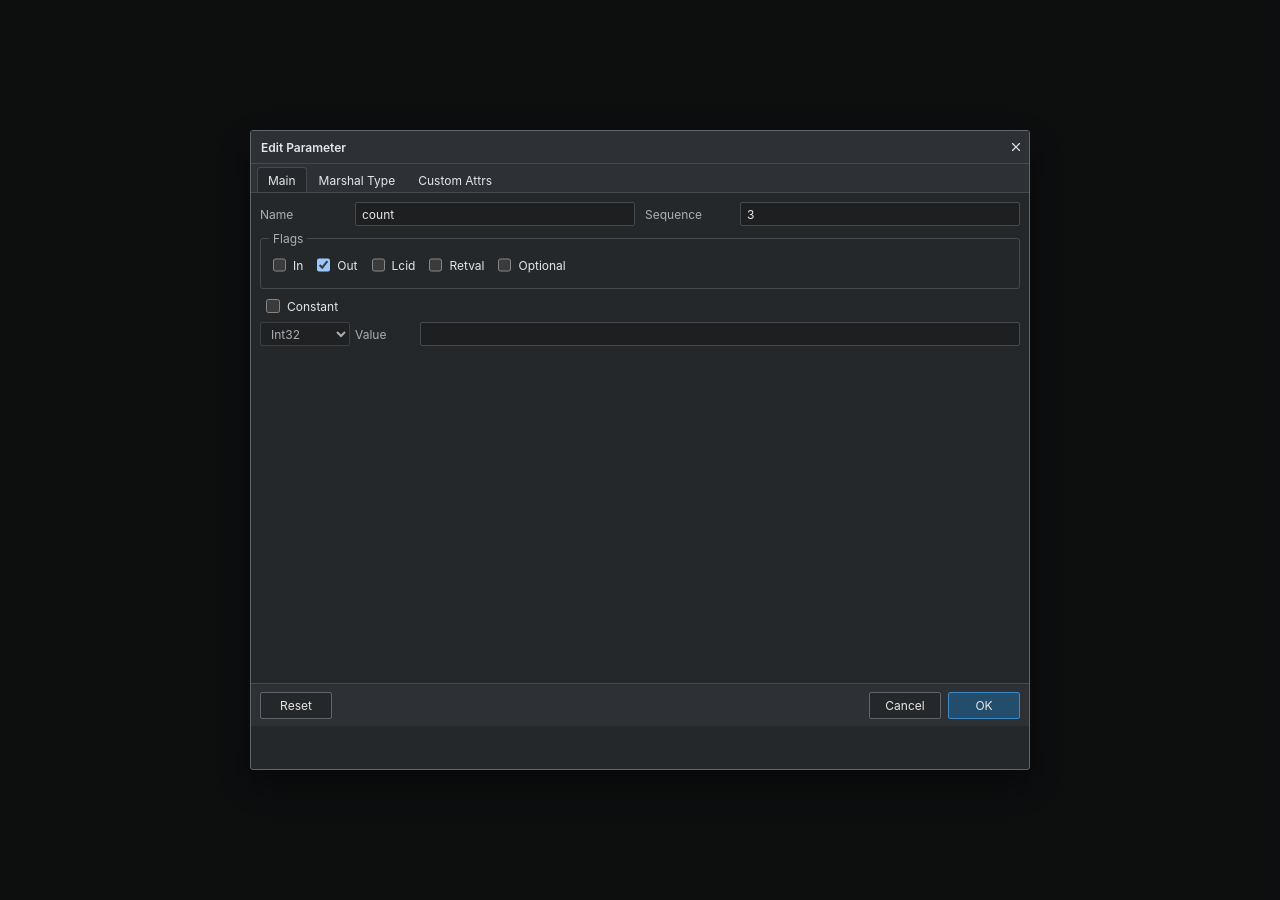
Test: ParamDefDialog › puts every value back the way it opened, whichever page it is on
Replace the text in the field named "Name" with "other". click: point(495, 214)
box: [355, 202, 635, 226]
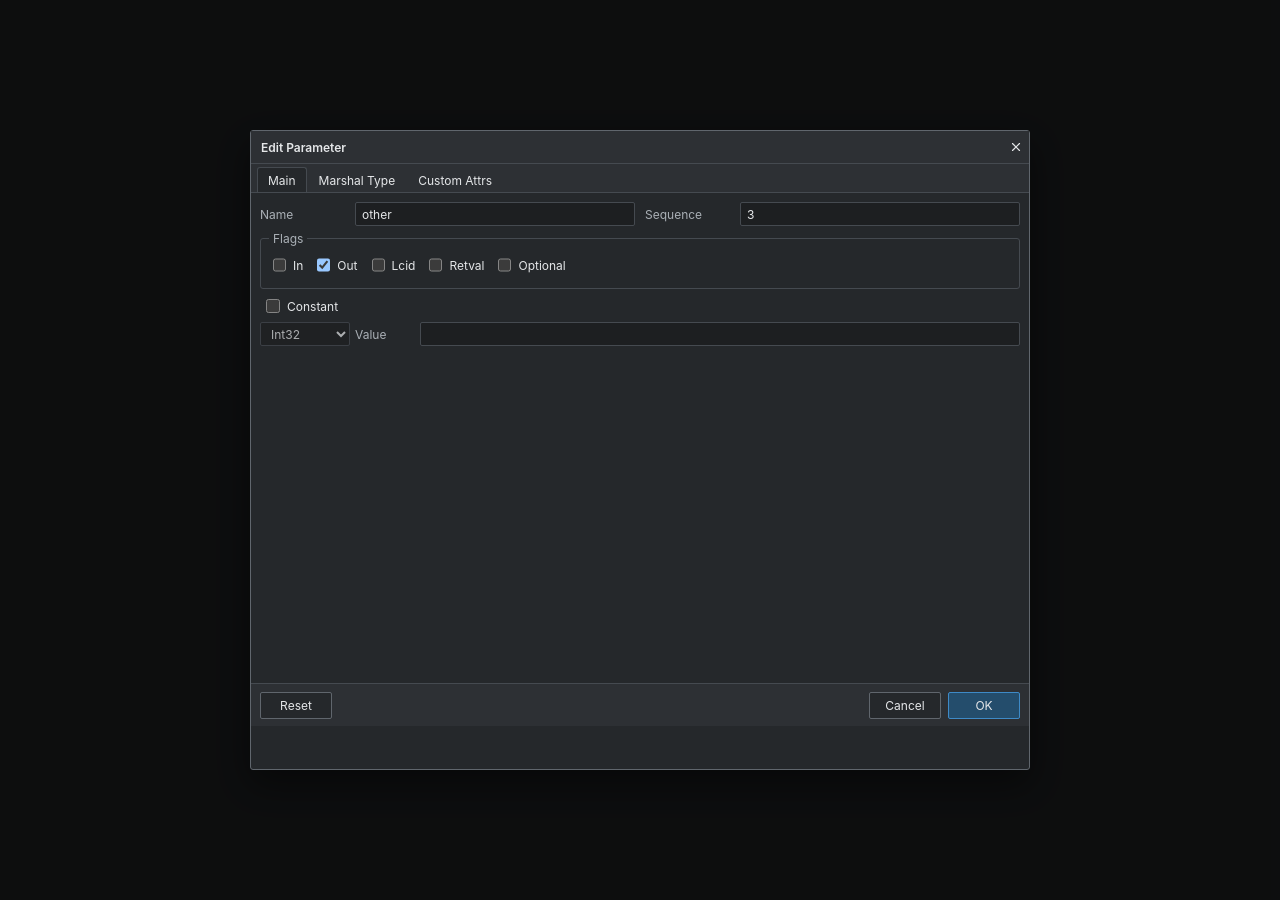
Click the checkbox labelled "In". click: point(280, 265)
box: [273, 253, 286, 277]
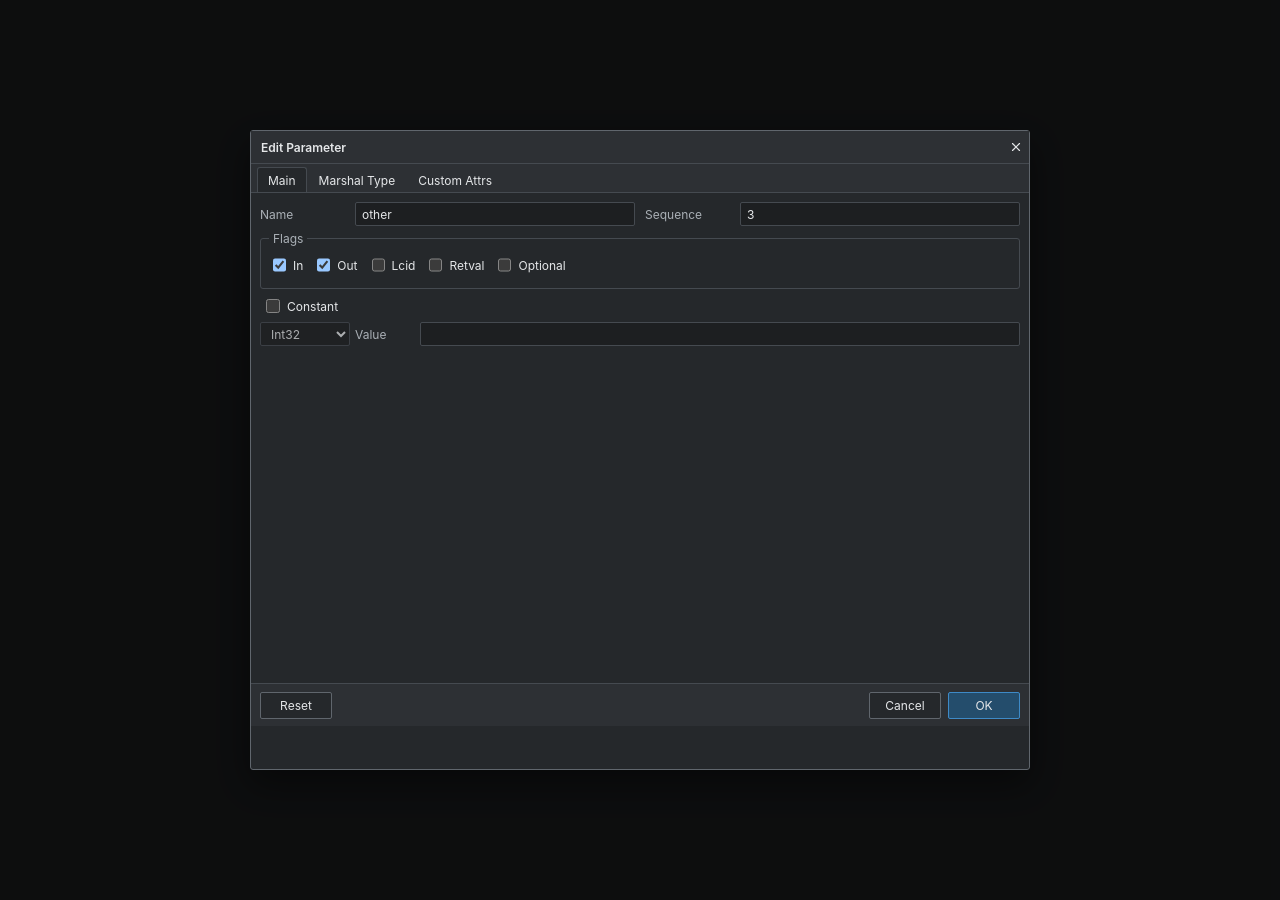
Click the button "Reset". click: point(296, 705)
box: [260, 692, 332, 718]
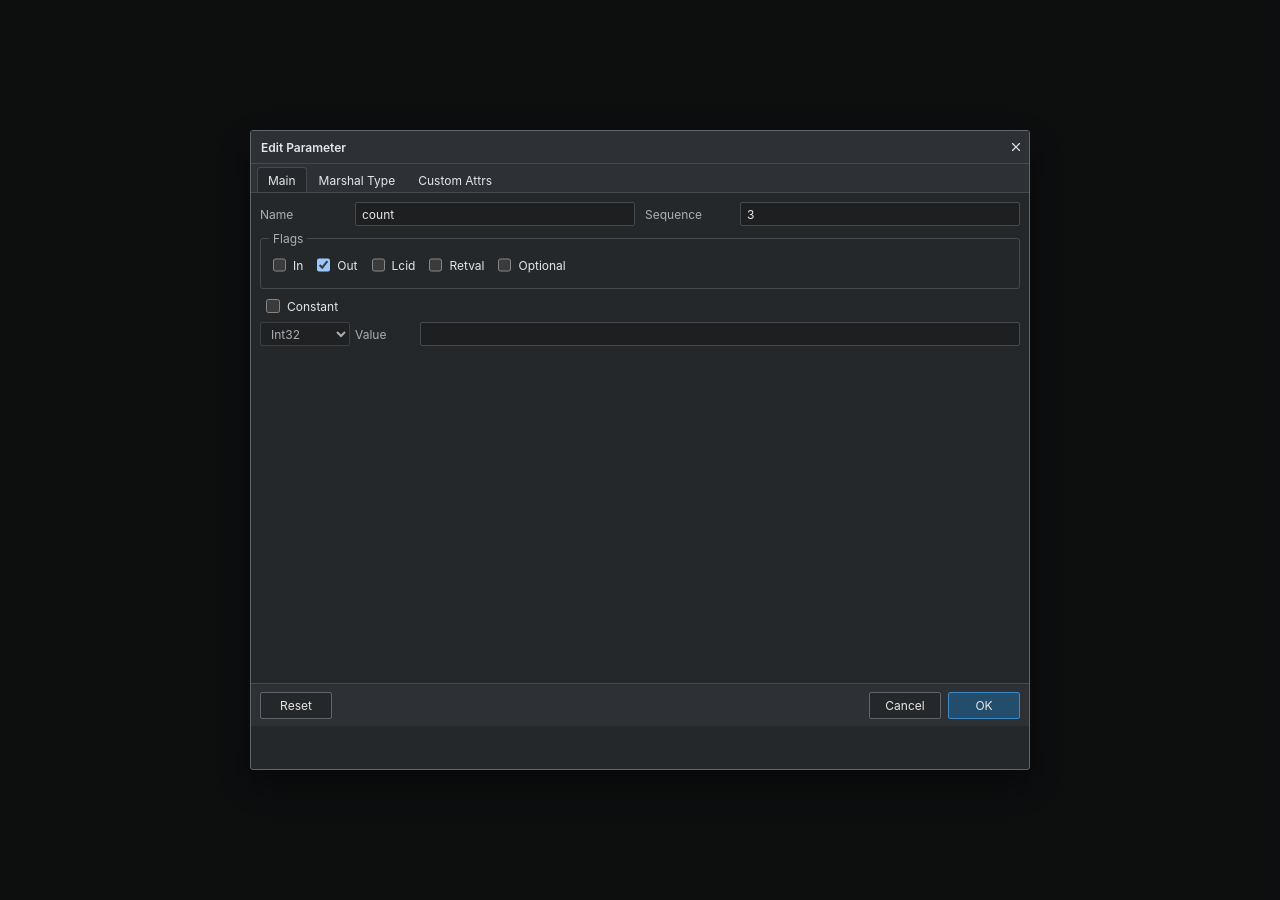
Expected: the field named "Sequence" holds "3", [740, 202, 1020, 226]
Expected: the checkbox labelled "In" is not checked, [273, 253, 286, 277]
Expected: the field named "Name" holds "count", [355, 202, 635, 226]
